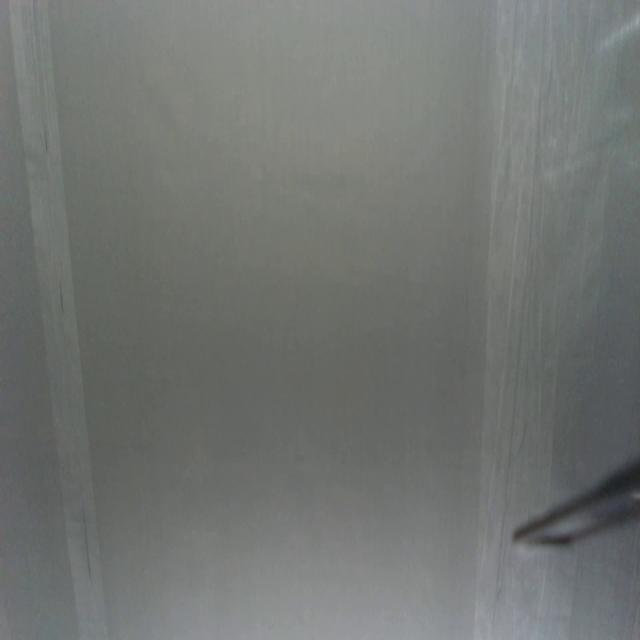crease: (8, 0, 108, 635), (481, 0, 596, 505), (489, 511, 506, 640)
